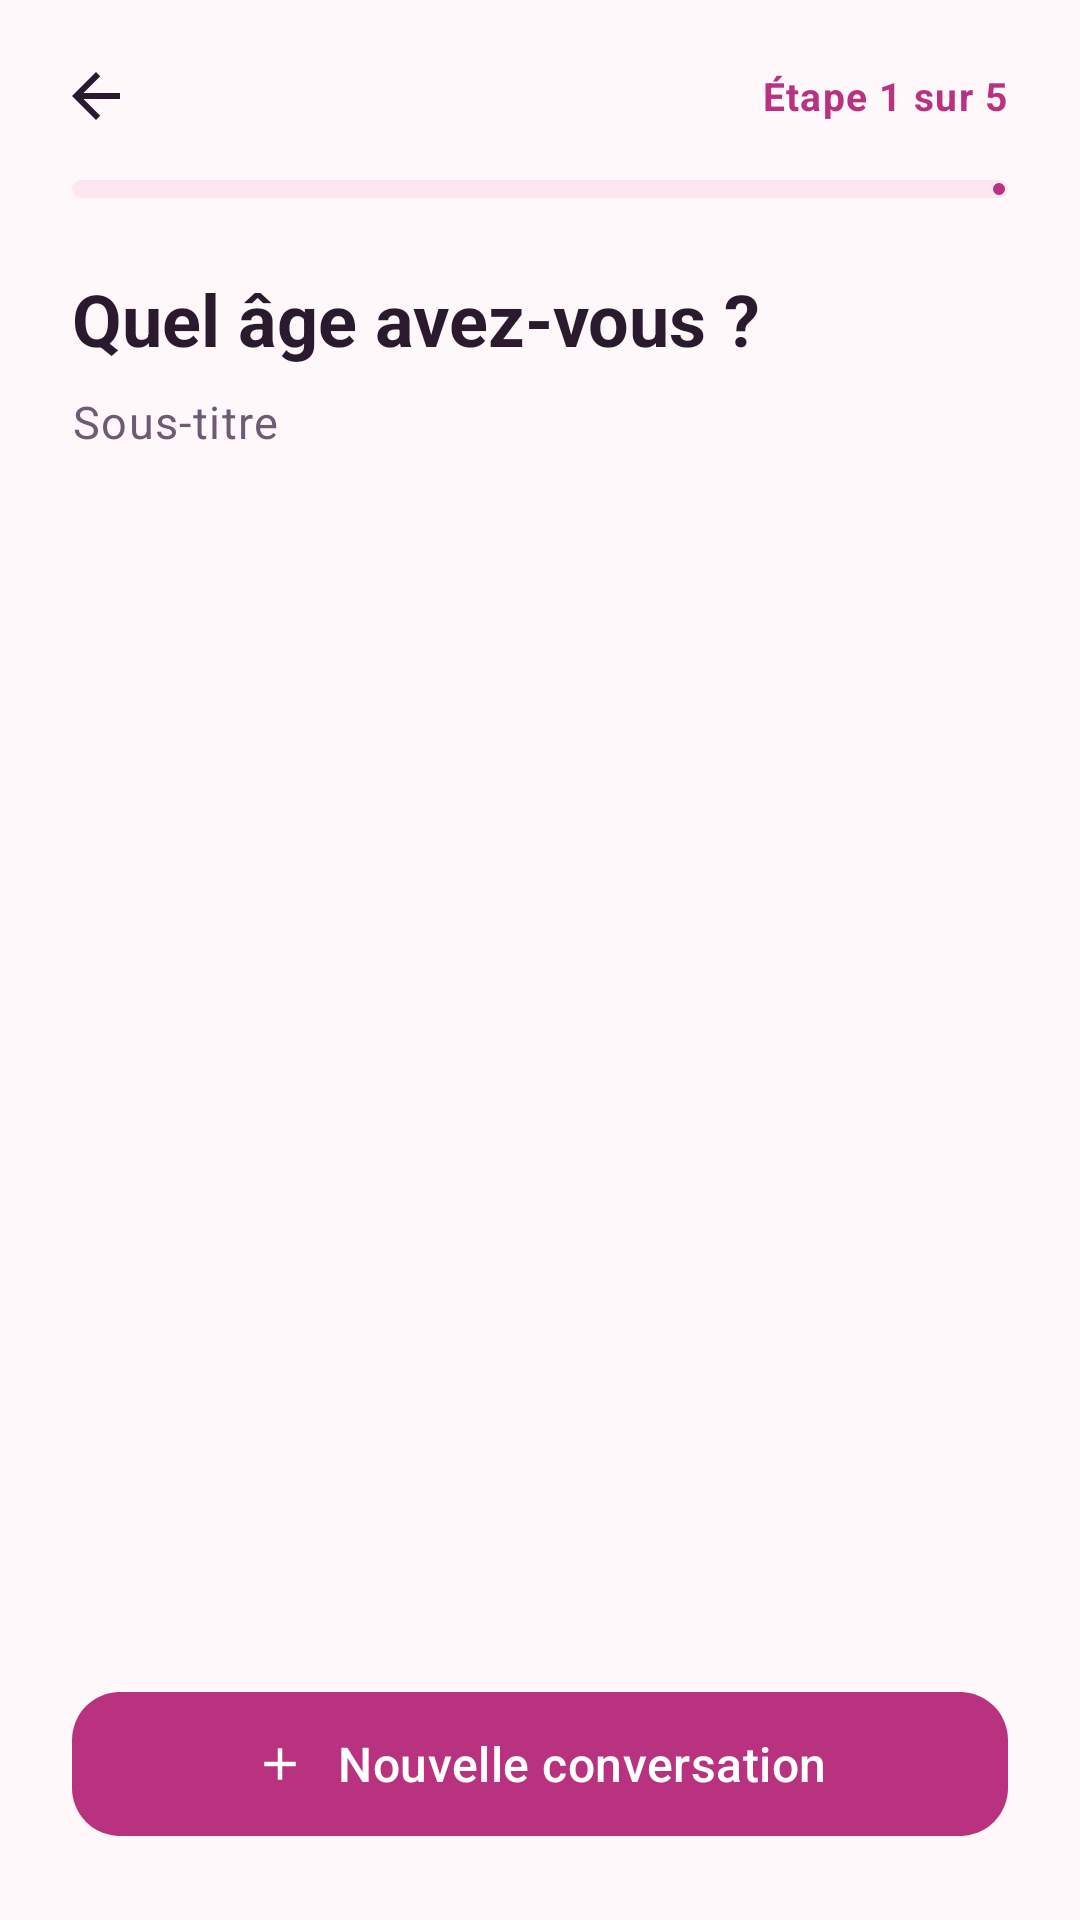

Screen size 1080 x 1920. Icon name, then its box in pixels as (x1, y1, x2, y2):
Retour: (72, 72, 120, 120)
